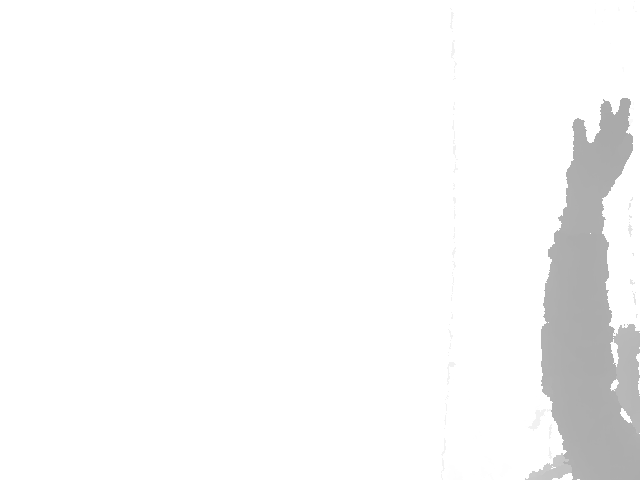hand: (563, 97, 634, 202)
person: (524, 96, 640, 479)
